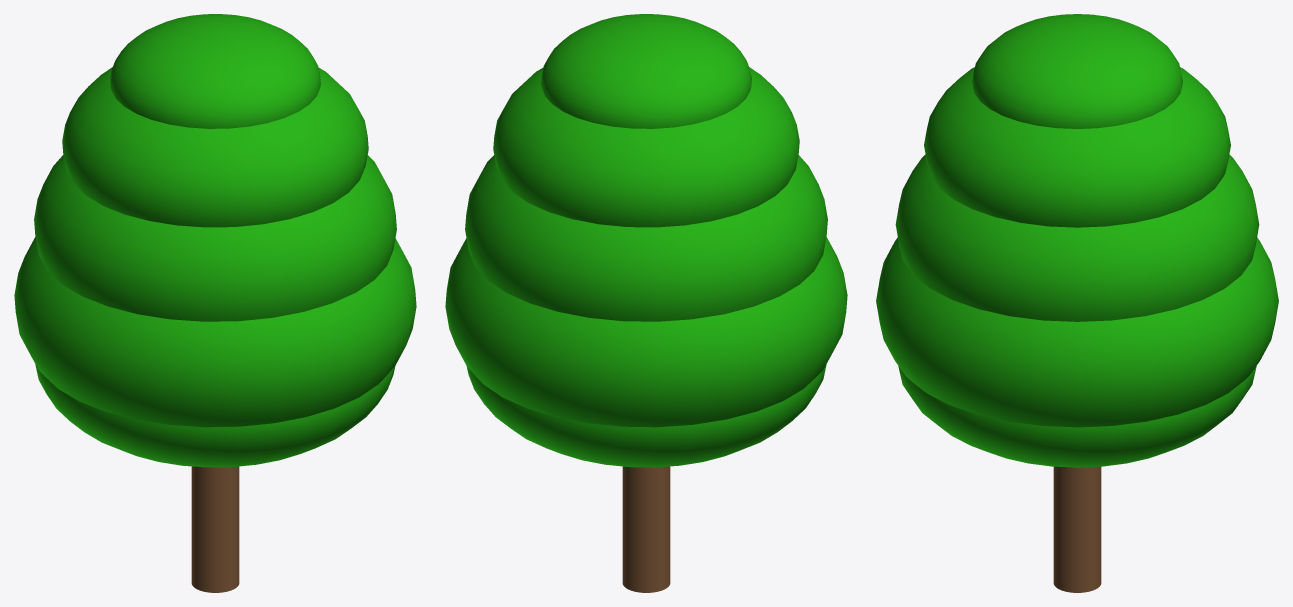
File: Luigi Raceway Tree.dae
3 renders of one model, left to right at view 1: azimuth 30°, elevation 25°; view 2: azimuth 150°, elevation 25°; view 3: azimuth 270°, elevation 25°, orthographic.
Parts seen in each view (by area): view 1: Sphere, Cylinder; view 2: Sphere, Cylinder; view 3: Sphere, Cylinder.
Boxes of the visible parts, bbox=[...] form: Sphere: bbox=[14, 14, 416, 467]; Cylinder: bbox=[191, 466, 239, 592]; Sphere: bbox=[445, 14, 847, 467]; Cylinder: bbox=[622, 466, 670, 592]; Sphere: bbox=[876, 14, 1278, 467]; Cylinder: bbox=[1053, 466, 1101, 592].
Size of the model in its own units: 32.8 by 49.6 by 32.8.
2 materials, 2 textured.
